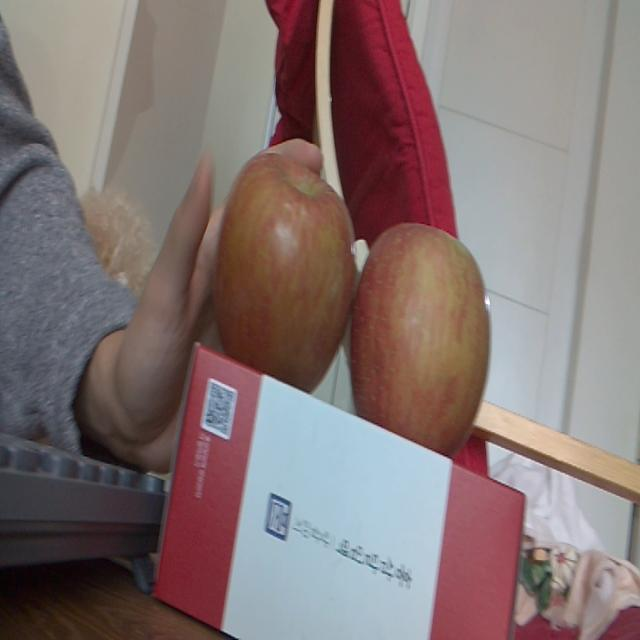apple: (214, 148, 355, 394), (355, 218, 498, 455)
